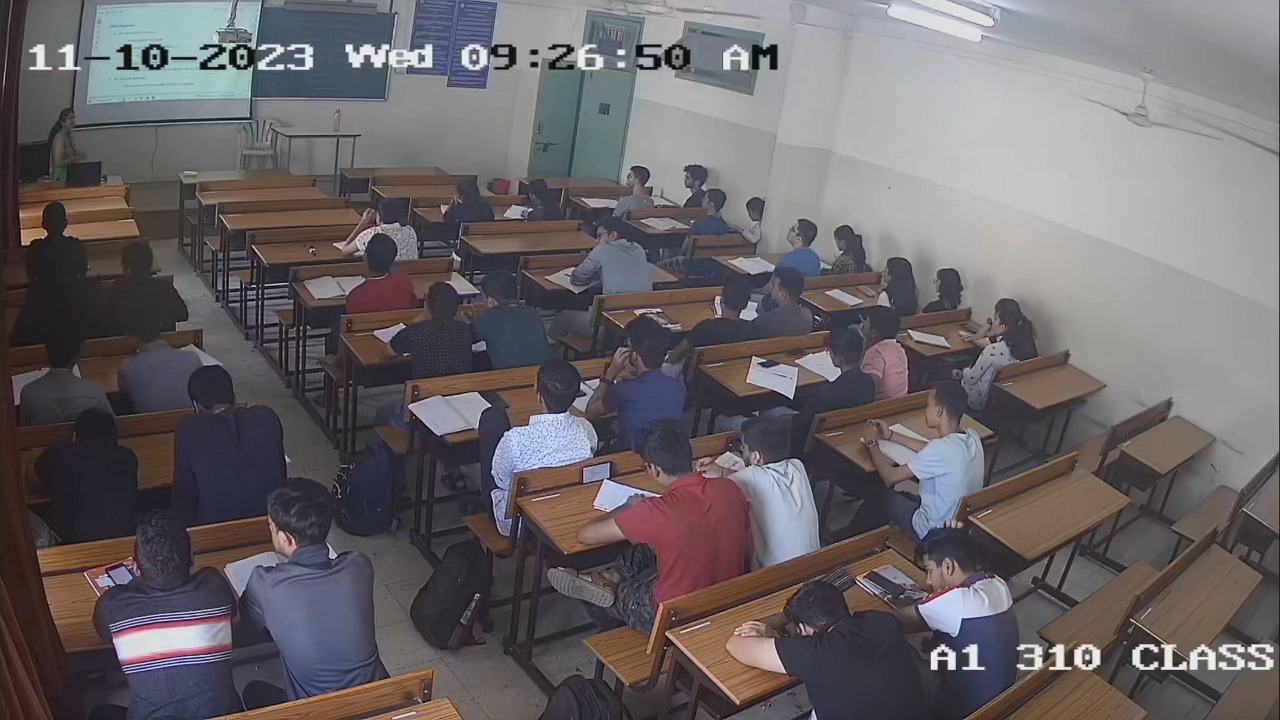cell-phones: (862, 568, 906, 599), (581, 459, 613, 483), (477, 388, 510, 409), (106, 562, 132, 586), (757, 358, 780, 369)
person: (109, 512, 238, 719), (614, 419, 736, 582), (902, 528, 1020, 686), (498, 361, 596, 471), (806, 327, 872, 413)
